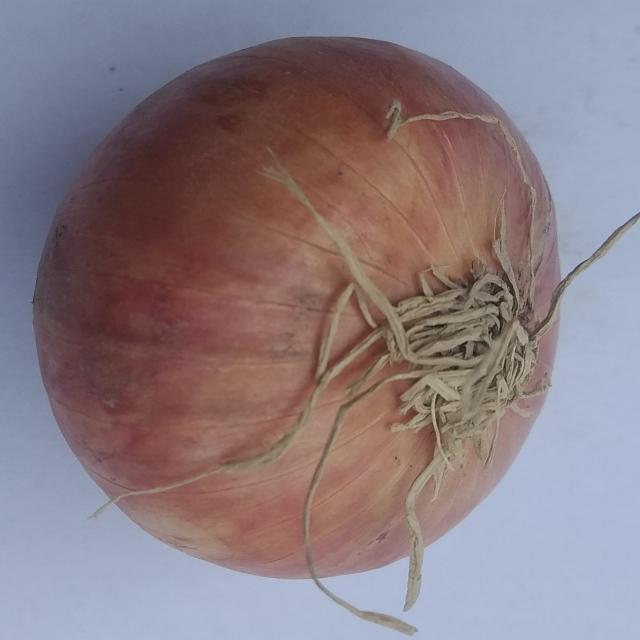onion: (30, 35, 564, 583)
